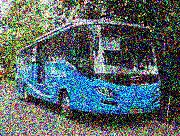bus: (18, 19, 170, 121)
